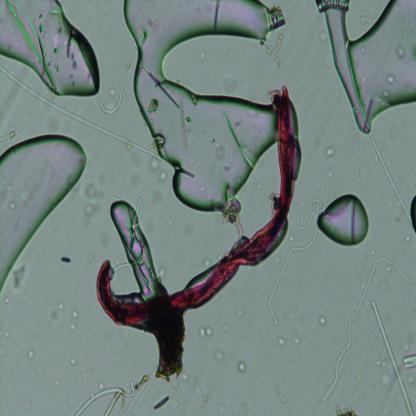Air bubble: (121, 0, 275, 213), (0, 132, 91, 289), (324, 0, 416, 135), (0, 0, 104, 102), (111, 198, 159, 300), (317, 195, 371, 248), (409, 194, 416, 234)
Background material: (150, 311, 187, 383), (222, 108, 254, 166), (142, 67, 182, 111), (220, 197, 246, 247), (259, 32, 285, 66), (83, 182, 99, 218), (378, 370, 397, 398), (12, 268, 32, 292), (212, 0, 222, 31), (335, 404, 359, 416), (153, 394, 173, 408), (198, 322, 214, 339), (69, 305, 79, 332), (151, 132, 166, 149), (146, 96, 159, 115), (148, 153, 160, 173), (224, 76, 237, 94), (236, 398, 249, 416), (49, 307, 62, 323), (396, 41, 408, 58), (216, 139, 225, 160), (180, 369, 194, 382), (163, 215, 175, 230), (173, 395, 188, 407), (214, 352, 227, 365), (237, 359, 250, 372), (326, 144, 338, 158), (375, 356, 387, 369), (386, 71, 397, 85), (359, 163, 369, 178), (219, 394, 226, 415), (293, 329, 302, 345), (158, 266, 168, 280), (360, 10, 369, 24), (277, 334, 286, 348), (202, 387, 209, 403), (60, 254, 71, 264), (326, 168, 334, 180), (274, 253, 282, 265), (69, 356, 77, 368), (318, 314, 326, 326), (27, 348, 35, 359), (97, 381, 105, 392), (221, 323, 230, 332), (202, 259, 212, 267), (404, 233, 412, 243), (274, 386, 282, 396), (272, 346, 280, 356), (0, 345, 7, 356), (255, 179, 262, 190), (58, 302, 66, 311), (25, 322, 33, 331), (237, 308, 244, 318), (86, 254, 94, 262), (81, 372, 89, 380), (288, 232, 295, 241), (55, 377, 61, 387), (282, 394, 287, 406), (184, 116, 192, 123), (161, 173, 168, 181), (4, 296, 11, 304), (3, 331, 11, 338), (386, 265, 393, 273), (63, 381, 70, 388), (290, 351, 296, 359), (409, 375, 415, 383), (174, 382, 180, 389), (326, 327, 332, 333), (196, 388, 202, 394), (370, 249, 375, 256), (358, 374, 363, 381), (352, 288, 356, 294), (260, 412, 264, 416)
Cotton: (94, 84, 300, 329)
Diatom: (262, 1, 287, 31), (317, 0, 352, 13)
Glass filter fibre: (0, 66, 162, 159), (321, 258, 416, 402), (268, 226, 319, 326), (372, 300, 414, 416), (370, 132, 412, 226), (96, 44, 138, 115), (0, 81, 47, 143), (74, 381, 136, 416), (124, 365, 157, 416), (86, 159, 110, 211), (56, 95, 80, 144), (296, 197, 324, 230), (314, 12, 325, 68), (135, 194, 148, 224), (104, 392, 119, 416), (401, 354, 416, 369), (113, 264, 131, 274)
